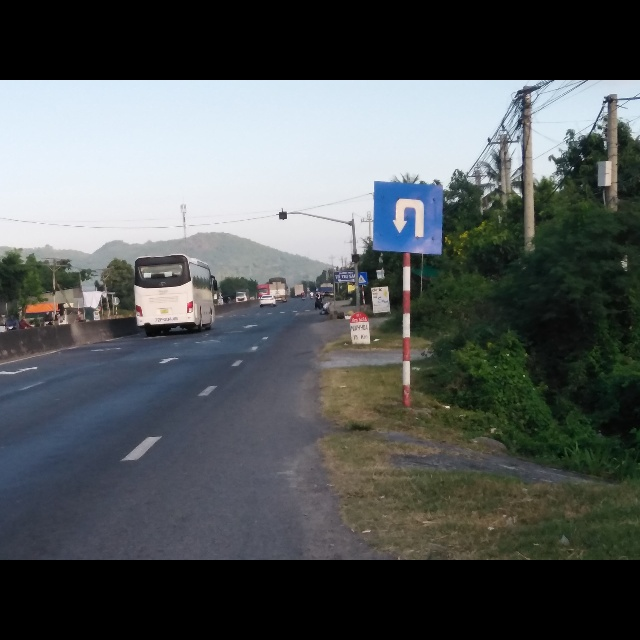Khu vực quay đầu xe: (372, 179, 446, 254)
